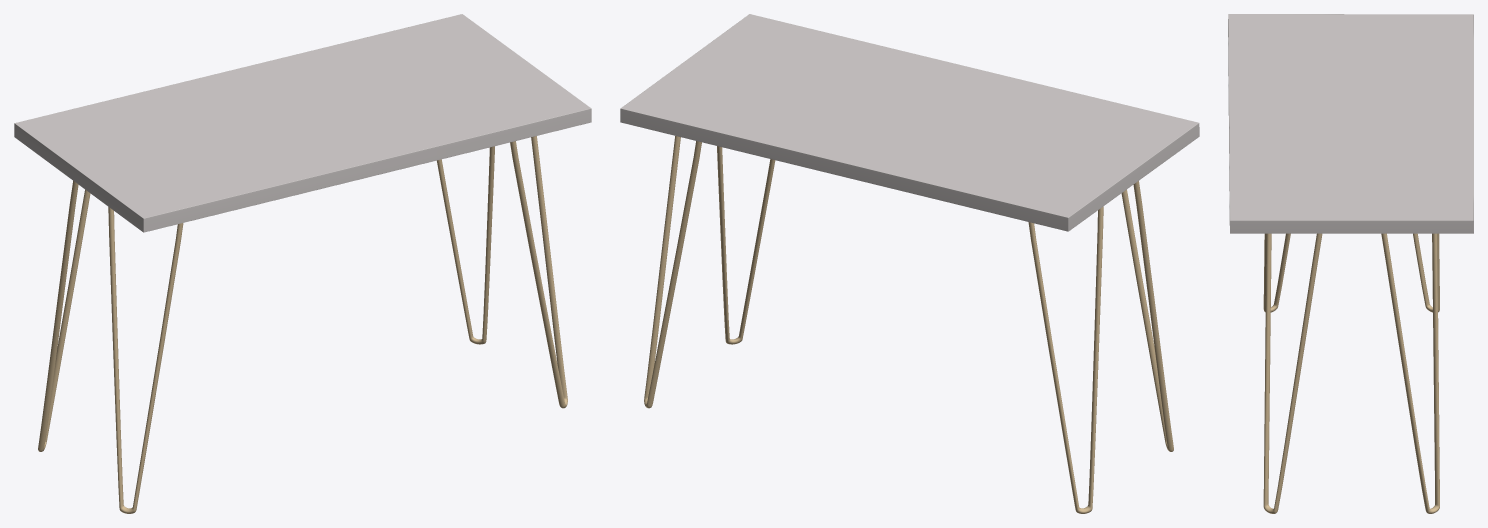
The model's file is abo-B07QJJXBV8.glb.
3 views of the same model, side by side, from view 1: azimuth 30°, elevation 25°; view 2: azimuth 150°, elevation 25°; view 3: azimuth 270°, elevation 25° (orthographic). The views are drawn at different scales.
Bounding box in the file's own units: 0.991 × 0.66 × 0.498.
1 material, 1 textured.
